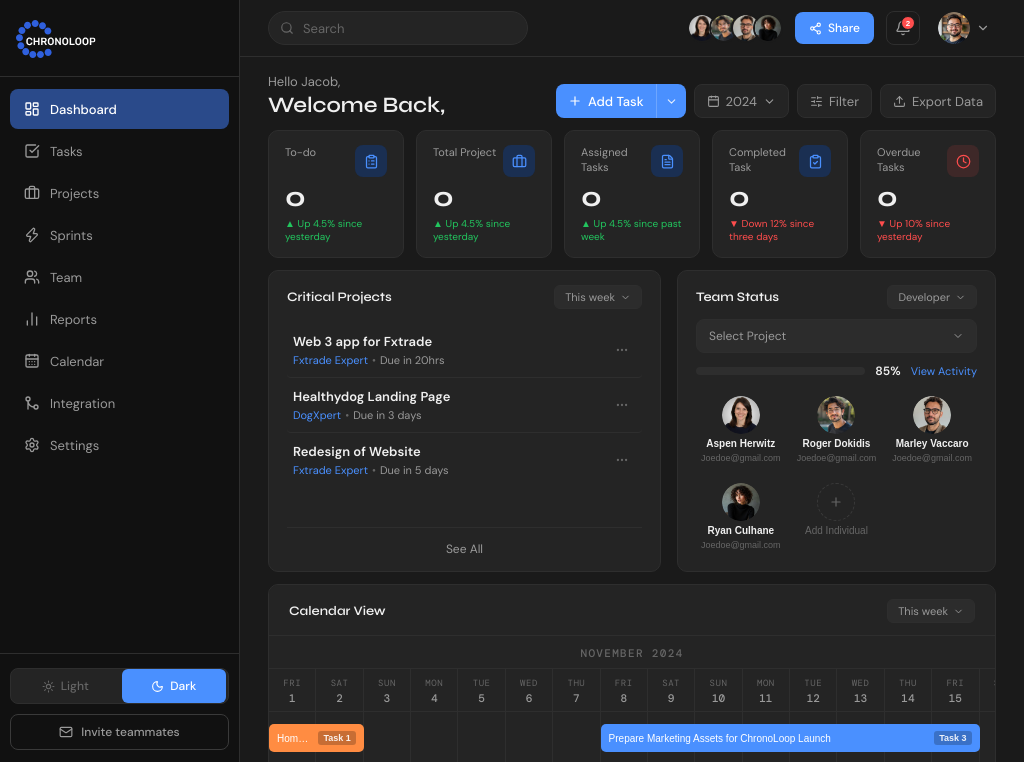
App › navigates to the Tasks page when the Tasks nav link is clicked
Click the link "Tasks" at (53, 151), box [24, 142, 83, 160]
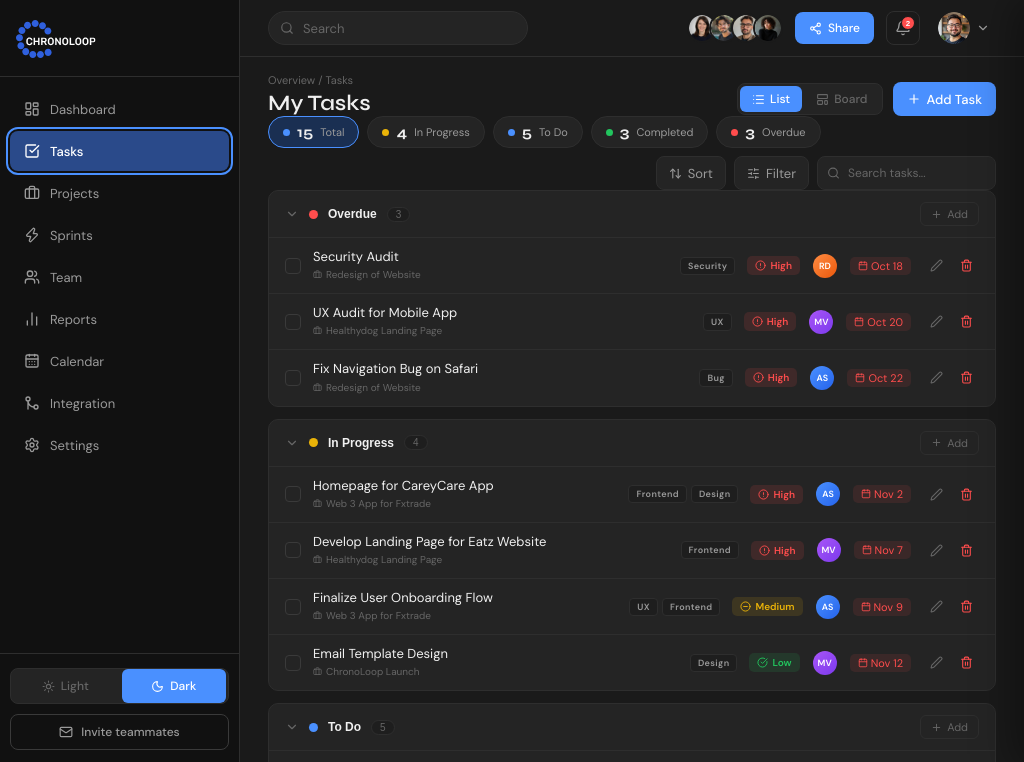
Expected: the text "My Tasks" is shown, [268, 90, 371, 116]
